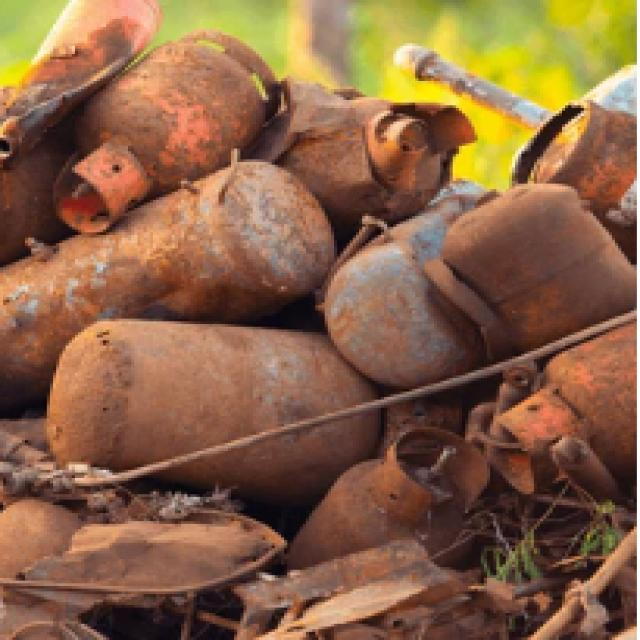cylinder: (50, 28, 284, 237), (287, 422, 491, 572)
